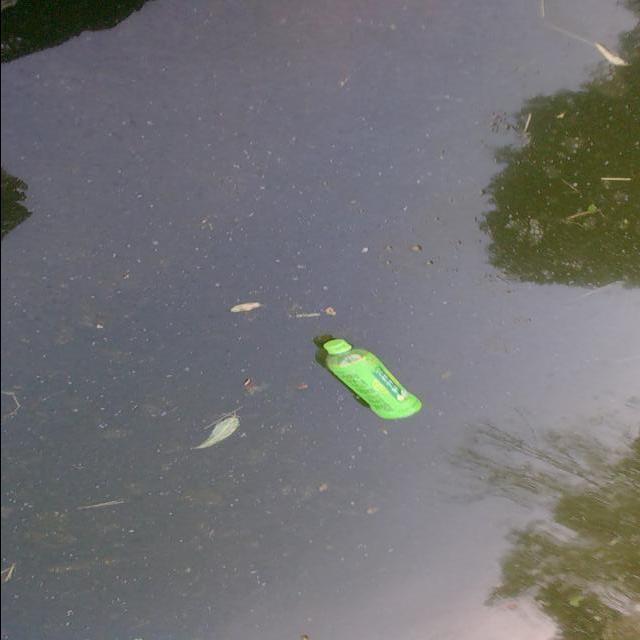Bottle: (310, 330, 424, 424)
